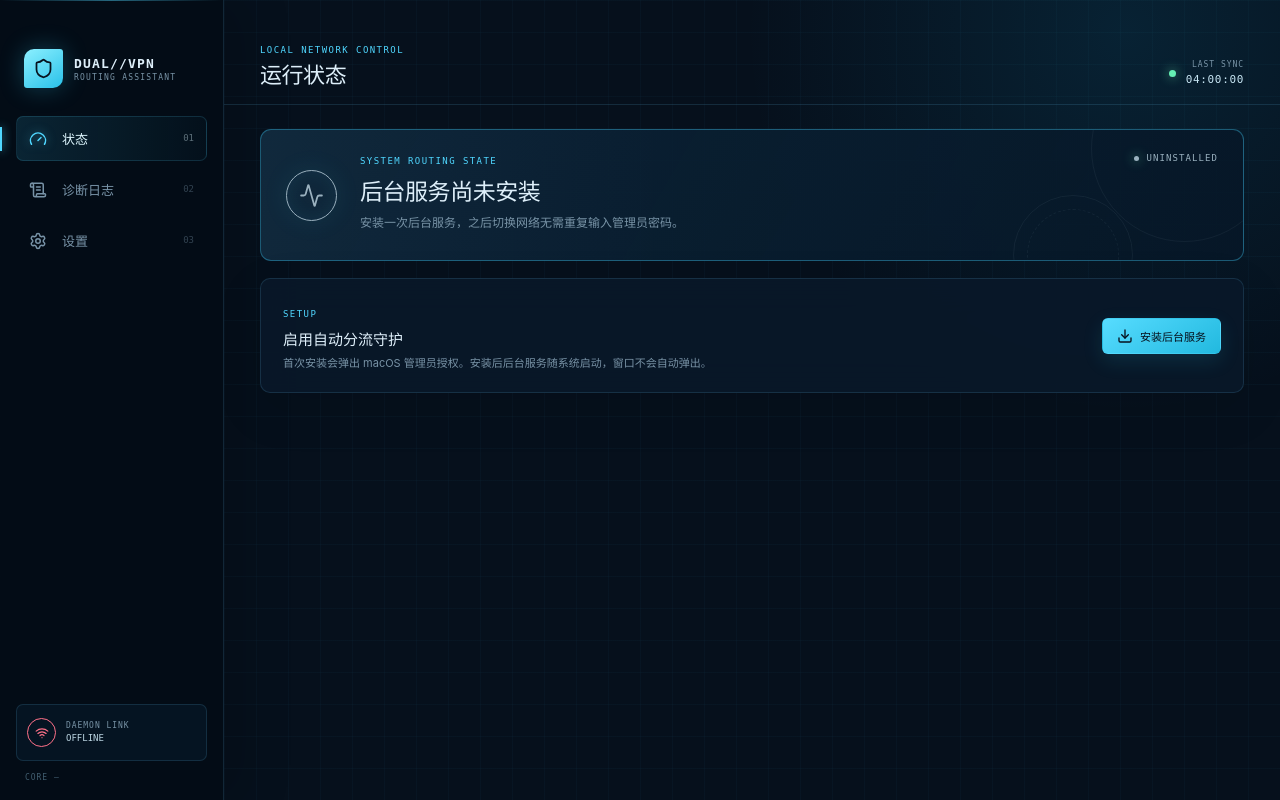
Scenario: App › does not expose raw launcher errors in persistent feedback
This screenshot has width=1280, height=800.
What coordinates should you click on to do the following:
click the button "安装后台服务"
I would click on:
 (1162, 336)
Its box is [1102,318,1221,354].
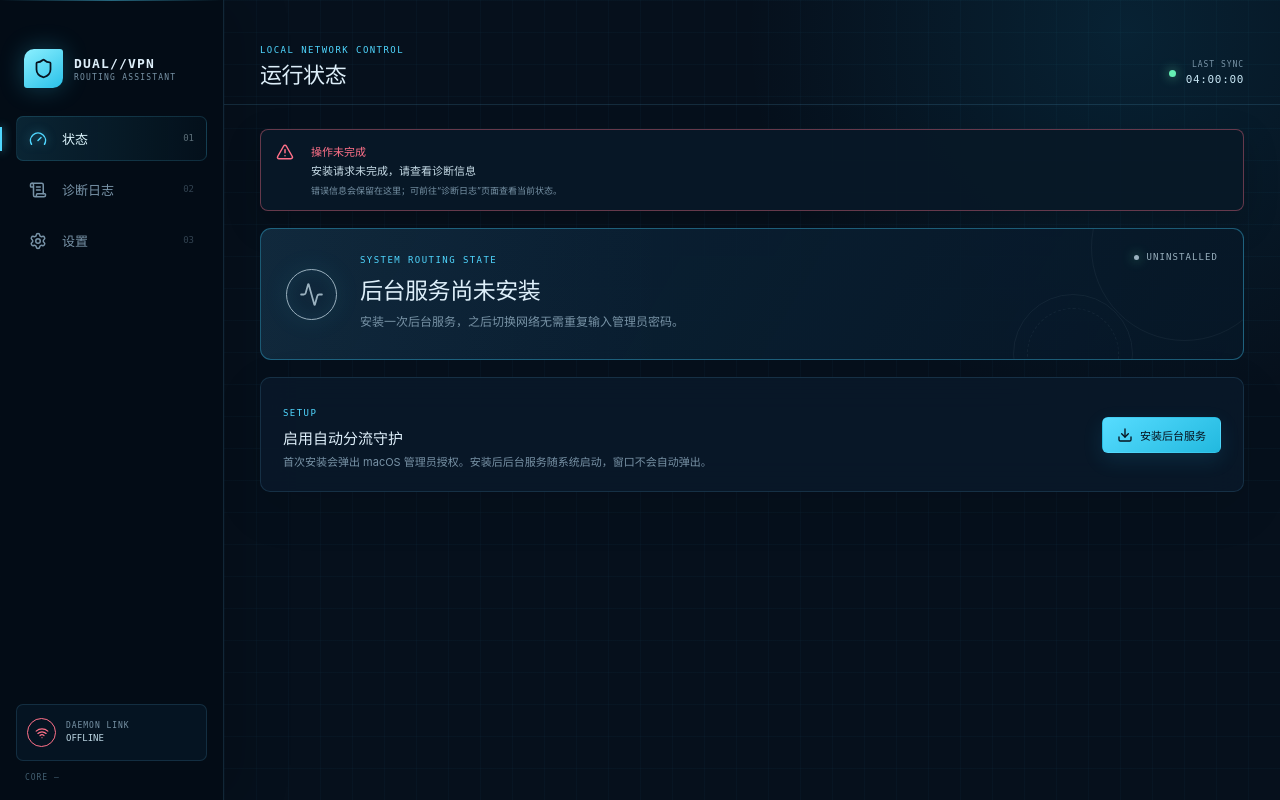
Expected: the message does not show "/Users/alice", [260,129,1244,211]
Expected: the message shows "安装请求未完成，请查看诊断信息", [311,164,476,178]
